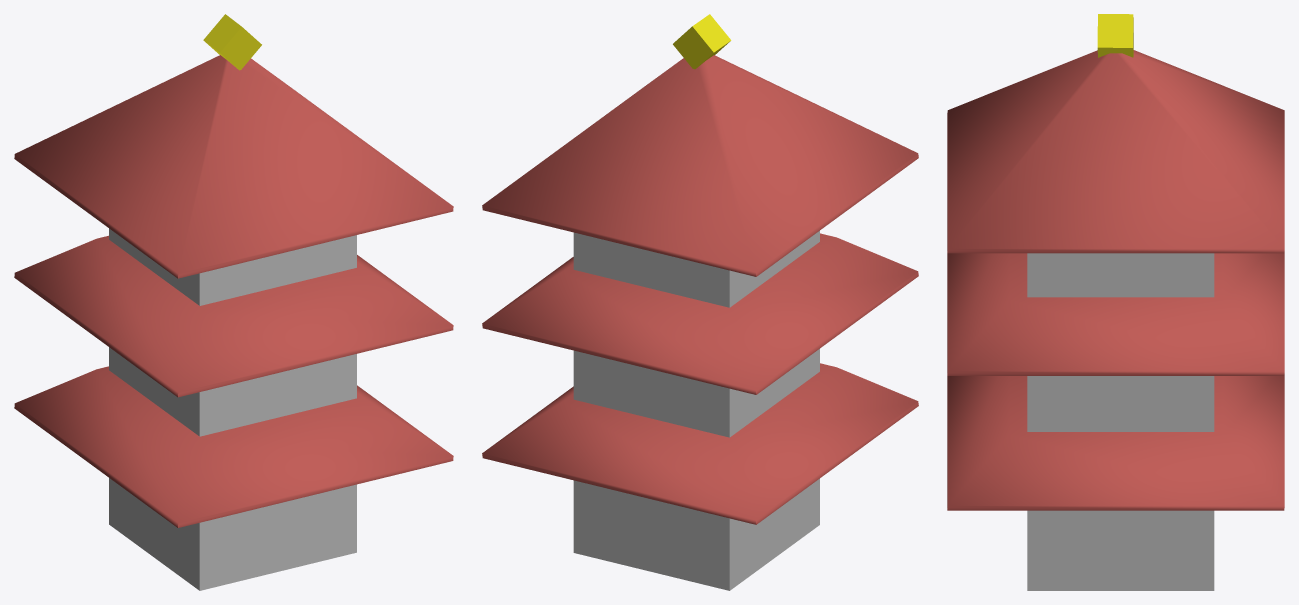
Rendered from placeholder_3.fbx.
3 views of the same model, side by side, from view 1: azimuth 30°, elevation 25°; view 2: azimuth 150°, elevation 25°; view 3: azimuth 270°, elevation 25° (orthographic). The views are drawn at different scales.
Visible parts, largest first — view 1: Cube.3, Cube.2, Cube.1, Cube, Cube.4; view 2: Cube.3, Cube, Cube.1, Cube.2, Cube.4; view 3: Cube.3, Cube.1, Cube, Cube.2, Cube.4.
Part boxes in pixels (x1,y1,x2,y2): Cube.3: (14,55,453,278); Cube.2: (14,235,453,397); Cube.1: (14,366,453,527); Cube: (109,228,356,590); Cube.4: (203,14,261,70); Cube.3: (482,55,918,276); Cube: (573,231,819,590); Cube.1: (482,363,918,524); Cube.2: (482,233,918,394); Cube.4: (673,14,731,69); Cube.3: (947,50,1284,253); Cube.1: (947,374,1284,510); Cube: (1027,253,1214,590); Cube.2: (947,251,1284,375); Cube.4: (1097,14,1133,57).
Size of the model in its own units: 351 by 633 by 361.
